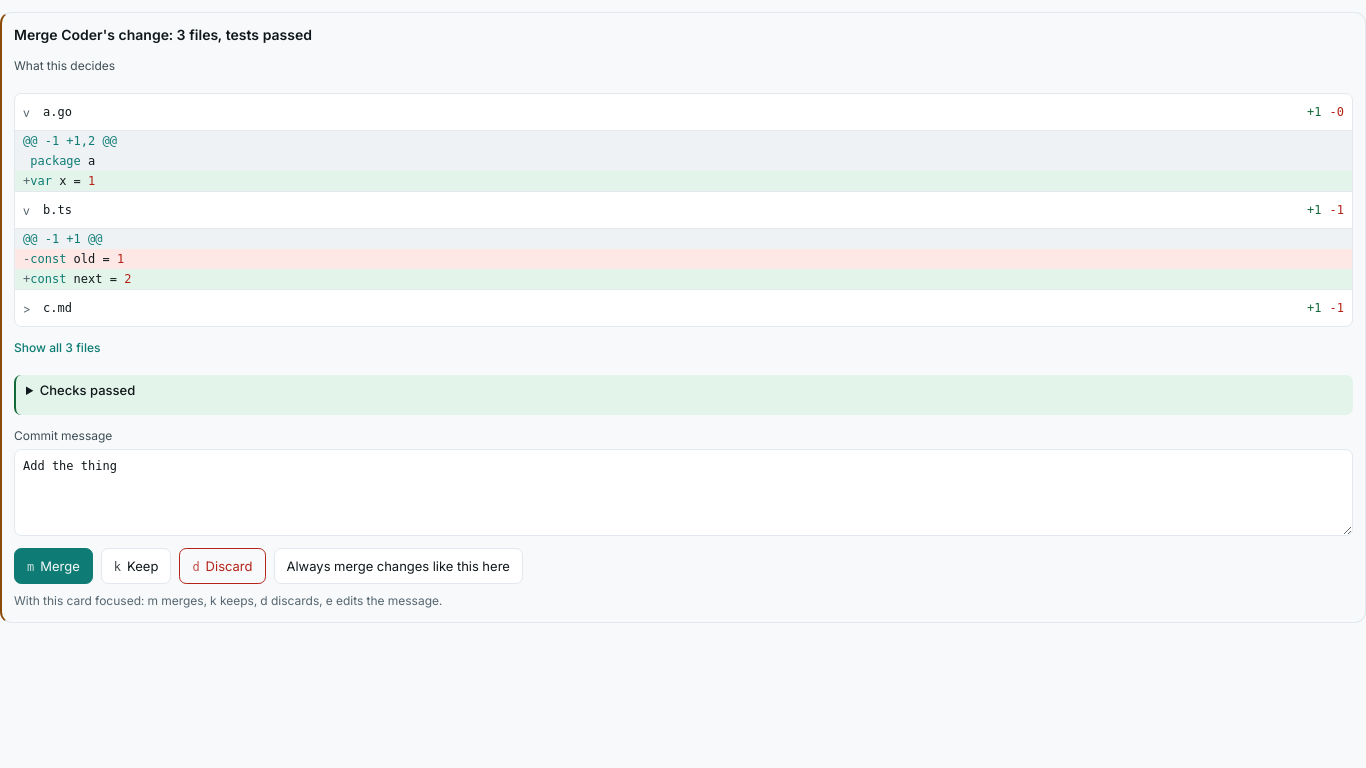
Test: ApprovalCard › write approval › previews the first two files and folds the rest until asked
The image size is (1366, 768).
Click the button "Show all 3 files" at (57, 347), box left=14, top=331, right=100, bottom=363
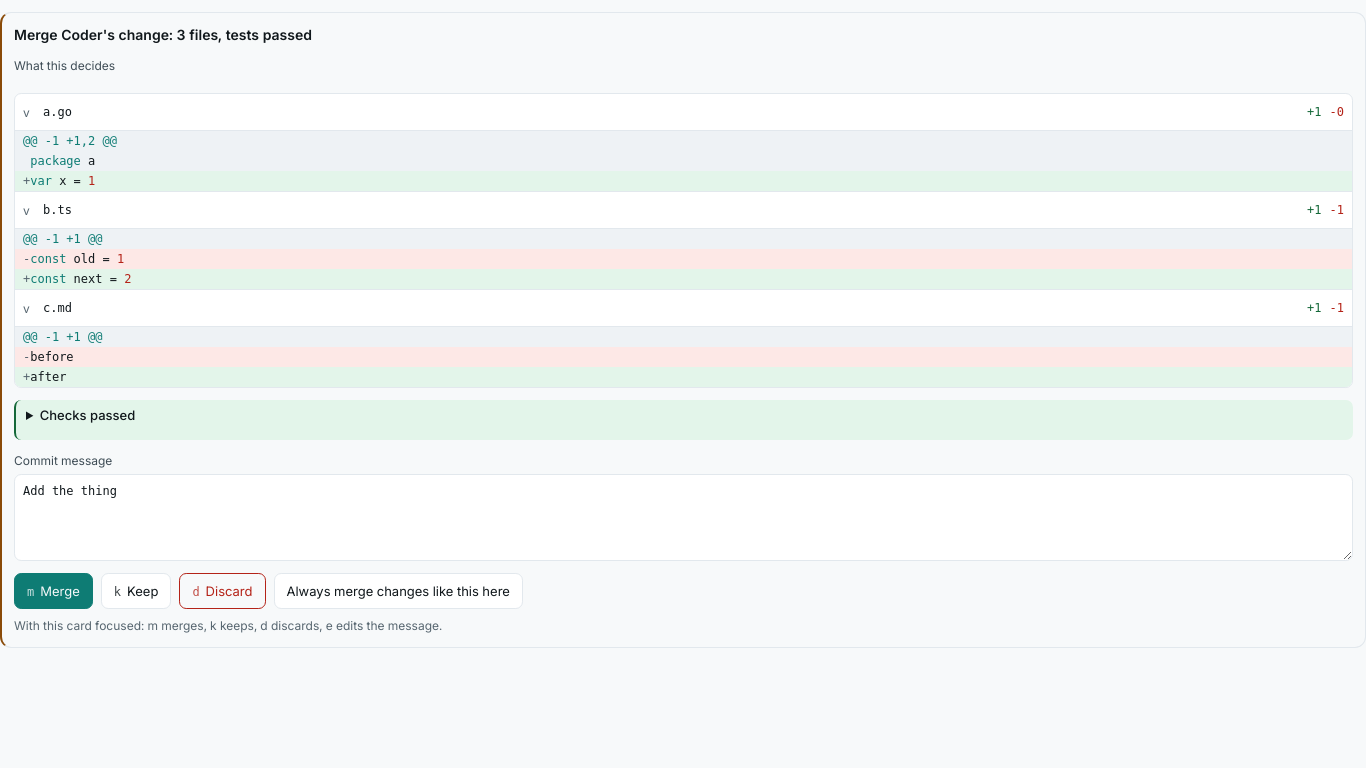
Expected: the button "Show all" is gone
